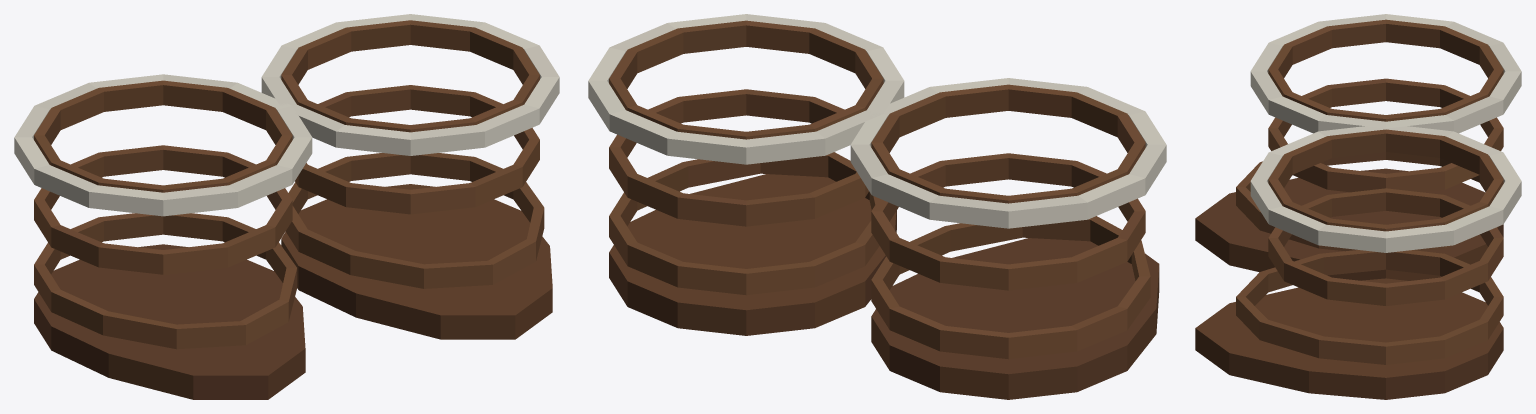
The model's file is armor_feet_sandals.glb.
3 views of the same model, side by side, from view 1: azimuth 30°, elevation 25°; view 2: azimuth 150°, elevation 25°; view 3: azimuth 270°, elevation 25° (orthographic). The views are drawn at different scales.
Visible parts, largest first — view 1: armor_feet_sandals_R, armor_feet_sandals; view 2: armor_feet_sandals_R, armor_feet_sandals; view 3: armor_feet_sandals, armor_feet_sandals_R.
Boxes of the visible parts, x1,y1,x2,y2 form: armor_feet_sandals_R: [14, 74, 312, 399]; armor_feet_sandals: [261, 14, 559, 339]; armor_feet_sandals_R: [850, 78, 1166, 399]; armor_feet_sandals: [588, 14, 904, 335]; armor_feet_sandals: [1195, 126, 1521, 399]; armor_feet_sandals_R: [1195, 14, 1521, 280].
Size of the model in its own units: 0.654 by 0.2325 by 0.402.
